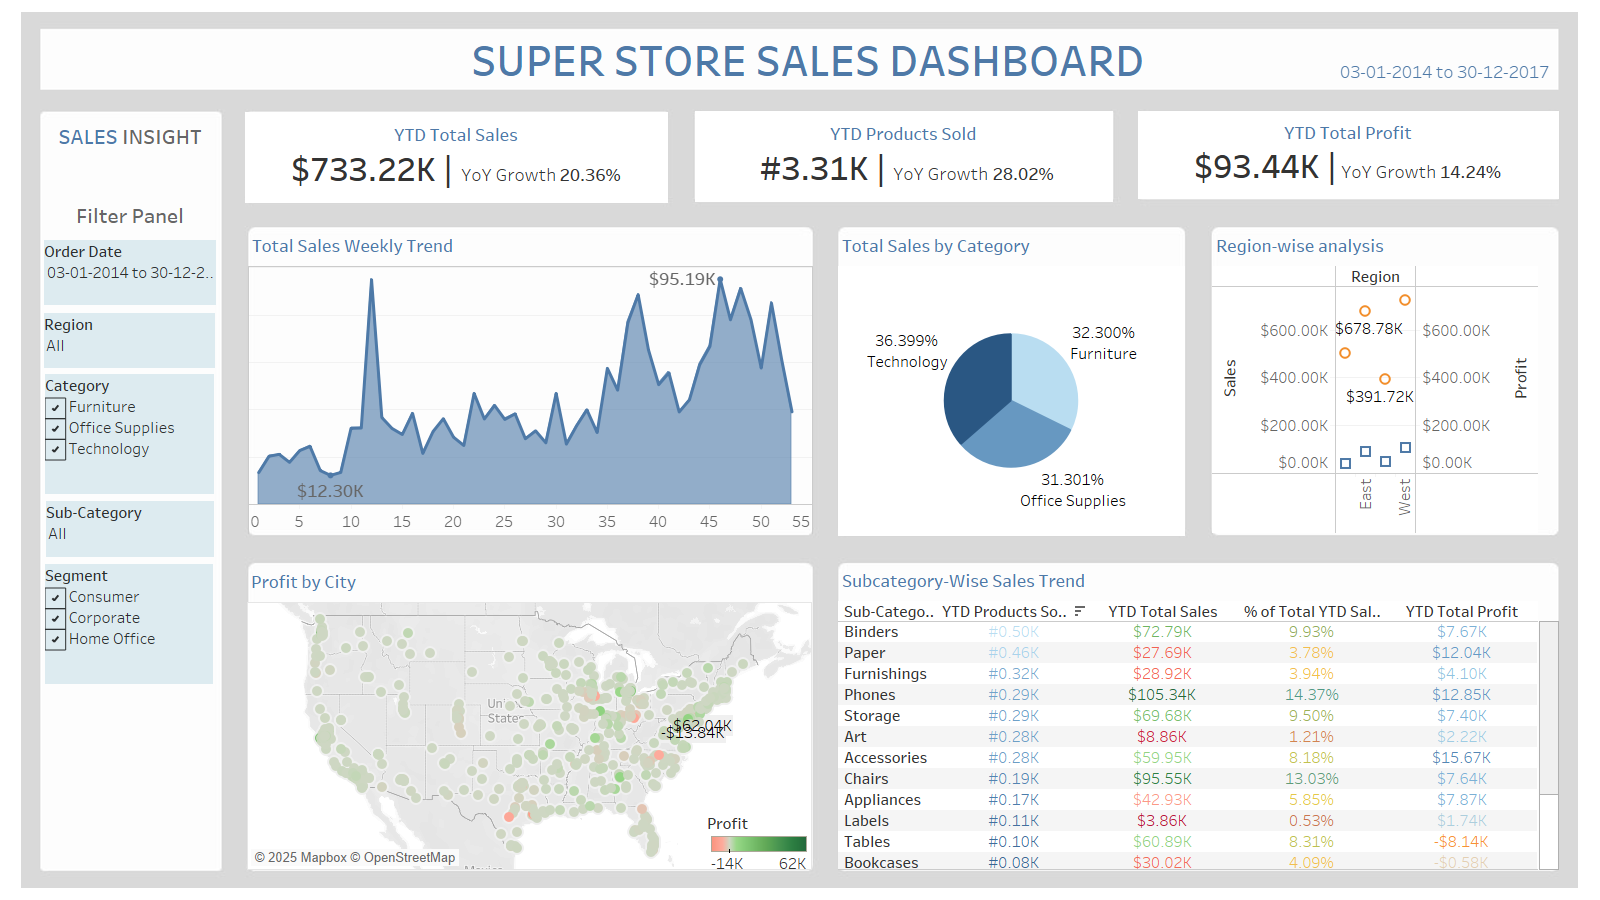

The dashboard page shown, as its layout file describes it:
{"tool":"tableau","page":{"name":"Dashboard 1","canvas":[1600,900],"ordinal":0},"visuals":[{"type":"image","param":"C:/Users/Krishnam Gupta/Downloads/Car Sales Background Tableau.jpg","box":[8,8,1584,884]},{"type":"text","box":[468,29,699,60]},{"type":"worksheet","title":"Sheet 9","mark":"Automatic","box":[1334,60,226,26]},{"type":"worksheet","title":"YTD Products Sold","mark":"Automatic","box":[695,111,417,90]},{"type":"worksheet","title":"YTD Total Profit","mark":"Automatic","box":[1138,111,420,87]},{"type":"worksheet","title":"YTD Total Sales","mark":"Automatic","box":[245,112,422,90]},{"type":"text","box":[37,119,186,35]},{"type":"text","box":[37,198,186,35]},{"type":"legend","title":"Region-wise analysis","param":"[federated.1t3it3l1gmwhnf1cprfe01ypaovl].[Multiple Values]","box":[1051,226,140,88]},{"type":"worksheet","title":"Total Sales Weekly Trend","mark":"Area","rows":["Sales","Sales"],"cols":["Order Date"],"box":[248,227,565,308]},{"type":"worksheet","title":"Sales by Category","mark":"Pie","box":[838,227,346,308]},{"type":"worksheet","title":"Region-wise analysis","mark":"Shape","rows":["Sales","Profit"],"cols":["Region"],"box":[1212,227,344,307]},{"type":"filter","title":"Total Sales Weekly Trend","param":"[federated.1t3it3l1gmwhnf1cprfe01ypaovl].[none:Order Date:qk]","box":[44,240,172,65]},{"type":"filter","title":"Total Sales Weekly Trend","param":"[federated.1t3it3l1gmwhnf1cprfe01ypaovl].[none:Region:nk]","box":[44,313,171,55]},{"type":"filter","title":"Total Sales Weekly Trend","param":"[federated.1t3it3l1gmwhnf1cprfe01ypaovl].[none:Category:nk]","box":[45,374,169,120]},{"type":"filter","title":"Total Sales Weekly Trend","param":"[federated.1t3it3l1gmwhnf1cprfe01ypaovl].[none:Sub-Category:nk]","box":[46,501,168,56]},{"type":"worksheet","title":"Subcategory-Wise Sales Trend","mark":"Automatic","rows":["Sub-Category"],"box":[838,562,721,308]},{"type":"worksheet","title":"Profit by City","mark":"Automatic","box":[247,563,565,307]},{"type":"filter","title":"Total Sales Weekly Trend","param":"[federated.1t3it3l1gmwhnf1cprfe01ypaovl].[none:Segment:nk]","box":[45,564,168,120]},{"type":"legend","title":"Profit by City","param":"[federated.1t3it3l1gmwhnf1cprfe01ypaovl].[sum:Profit:qk]","box":[707,809,104,61]}]}

Visuals, with their boxes in screenshot pixels (x1, y1, x2, y2), scaled from the page's 1600x900 canvas onto the 1600x900 screenshot:
image: {"x1": 8, "y1": 8, "x2": 1592, "y2": 892}
text: {"x1": 468, "y1": 29, "x2": 1167, "y2": 89}
"Sheet 9" worksheet: {"x1": 1334, "y1": 60, "x2": 1560, "y2": 86}
"YTD Products Sold" worksheet: {"x1": 695, "y1": 111, "x2": 1112, "y2": 201}
"YTD Total Profit" worksheet: {"x1": 1138, "y1": 111, "x2": 1558, "y2": 198}
"YTD Total Sales" worksheet: {"x1": 245, "y1": 112, "x2": 667, "y2": 202}
text: {"x1": 37, "y1": 119, "x2": 223, "y2": 154}
text: {"x1": 37, "y1": 198, "x2": 223, "y2": 233}
"Region-wise analysis" legend: {"x1": 1051, "y1": 226, "x2": 1191, "y2": 314}
"Total Sales Weekly Trend" worksheet (Area marks): {"x1": 248, "y1": 227, "x2": 813, "y2": 535}
"Sales by Category" worksheet (Pie marks): {"x1": 838, "y1": 227, "x2": 1184, "y2": 535}
"Region-wise analysis" worksheet (Shape marks): {"x1": 1212, "y1": 227, "x2": 1556, "y2": 534}
"Total Sales Weekly Trend" filter: {"x1": 44, "y1": 240, "x2": 216, "y2": 305}
"Total Sales Weekly Trend" filter: {"x1": 44, "y1": 313, "x2": 215, "y2": 368}
"Total Sales Weekly Trend" filter: {"x1": 45, "y1": 374, "x2": 214, "y2": 494}
"Total Sales Weekly Trend" filter: {"x1": 46, "y1": 501, "x2": 214, "y2": 557}
"Subcategory-Wise Sales Trend" worksheet: {"x1": 838, "y1": 562, "x2": 1559, "y2": 870}
"Profit by City" worksheet: {"x1": 247, "y1": 563, "x2": 812, "y2": 870}
"Total Sales Weekly Trend" filter: {"x1": 45, "y1": 564, "x2": 213, "y2": 684}
"Profit by City" legend: {"x1": 707, "y1": 809, "x2": 811, "y2": 870}
